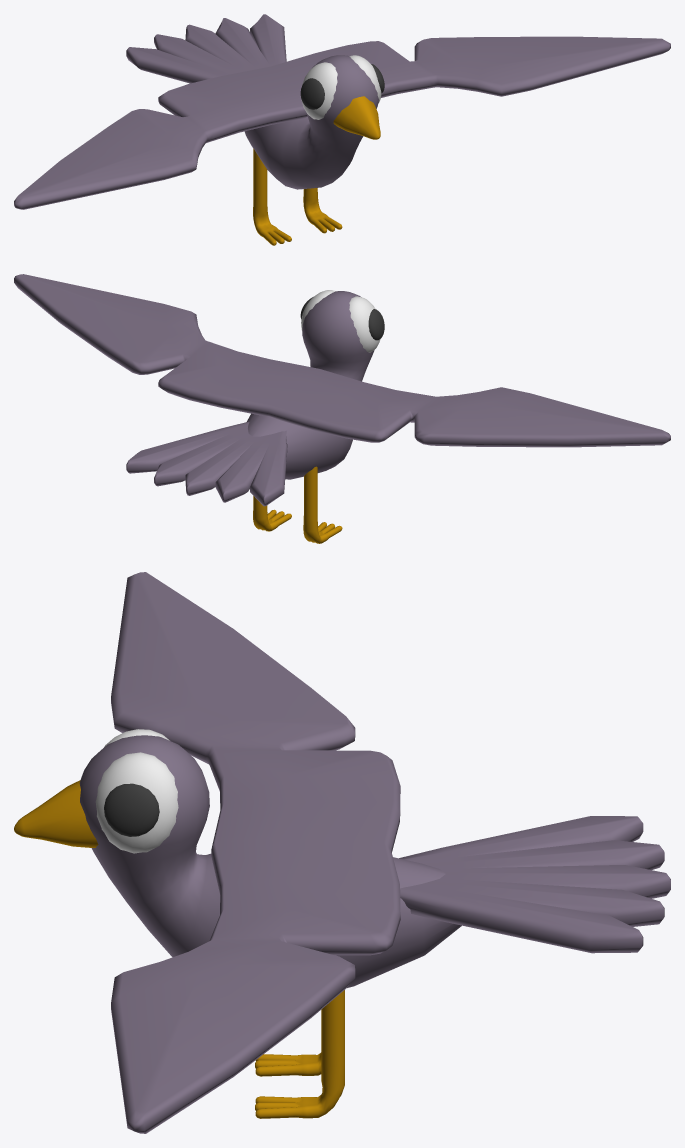
Rendered from birb.fbx.
3 renders of one model, top to bottom at view 1: azimuth 30°, elevation 25°; view 2: azimuth 150°, elevation 25°; view 3: azimuth 270°, elevation 25°, orthographic. The views are drawn at different scales.
Parts seen in each view (by area): view 1: BWing, BBody, Btail, BFeetBird1chara, BEyes, BBeak, Bpupil; view 2: BWing, Btail, BBody, BFeetBird1chara, BEyes, Bpupil; view 3: BWing, Btail, BBody, BFeetBird1chara, BEyes, BBeak, Bpupil.
Part boxes in pixels (x1,y1,x2,y2): BWing: (14, 36, 670, 209); BBody: (244, 55, 378, 189); Btail: (126, 14, 286, 83); BFeetBird1chara: (253, 148, 342, 245); BEyes: (301, 55, 381, 119); BBeak: (333, 96, 380, 139); Bpupil: (300, 64, 384, 109); BWing: (14, 274, 670, 447); Btail: (126, 421, 287, 506); BBody: (247, 291, 374, 479); BFeetBird1chara: (253, 466, 342, 543); BEyes: (301, 290, 380, 352); Bpupil: (300, 297, 384, 340); BWing: (111, 572, 400, 1133); Btail: (399, 816, 670, 953); BBody: (79, 735, 461, 988); BFeetBird1chara: (255, 990, 344, 1118); BEyes: (95, 729, 178, 853); BBeak: (14, 780, 98, 847); Bpupil: (104, 783, 159, 836).
Bounding box in the file's own units: 13.79 × 4.12 × 6.96.
